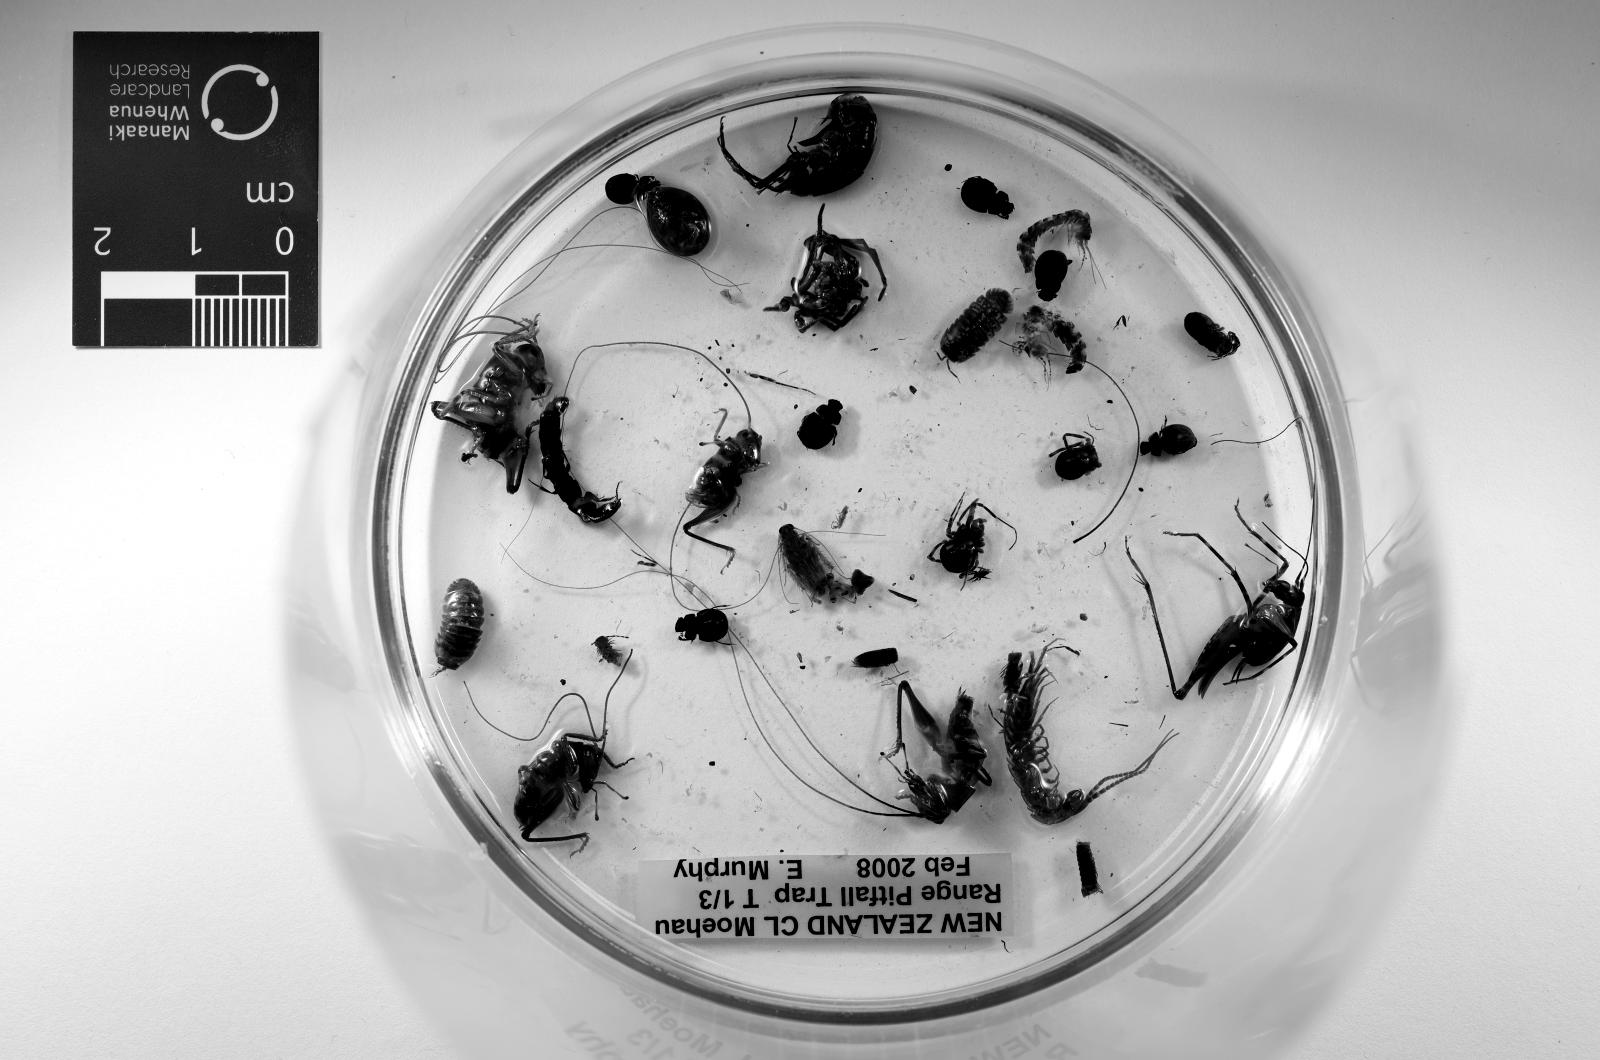araneae: (765, 208, 887, 332)
archaeognatha: (1010, 304, 1088, 382)
blattodea: (778, 525, 837, 602)
chilopoda: (993, 642, 1157, 826)
coleoptera: (538, 397, 622, 522), (797, 401, 843, 451), (959, 177, 1012, 218), (1035, 248, 1071, 302), (1141, 422, 1197, 457), (675, 608, 728, 642), (607, 174, 656, 205)
collembola: (831, 506, 847, 528)
isopoda: (940, 289, 1012, 363), (434, 577, 485, 671)
opiliones: (928, 500, 984, 577), (1185, 314, 1241, 357), (1050, 435, 1100, 481)
orthoptera: (1138, 503, 1307, 699), (432, 317, 553, 493), (719, 93, 879, 195), (512, 711, 628, 851), (881, 680, 991, 823), (685, 428, 765, 558)
